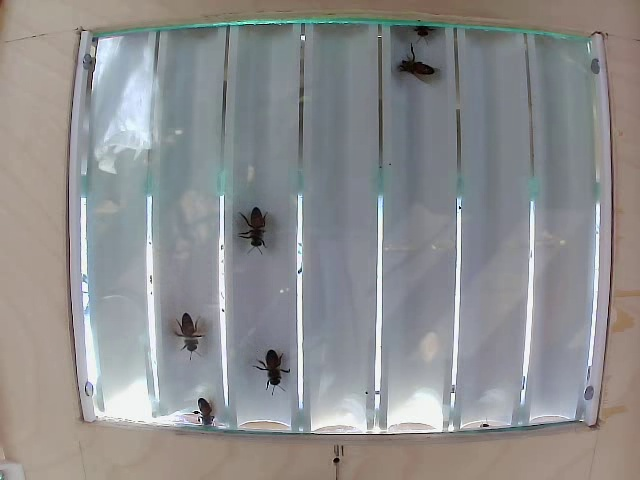bee: (240, 197, 277, 264), (170, 310, 209, 360), (248, 345, 287, 394), (396, 52, 436, 93), (186, 390, 224, 426)
